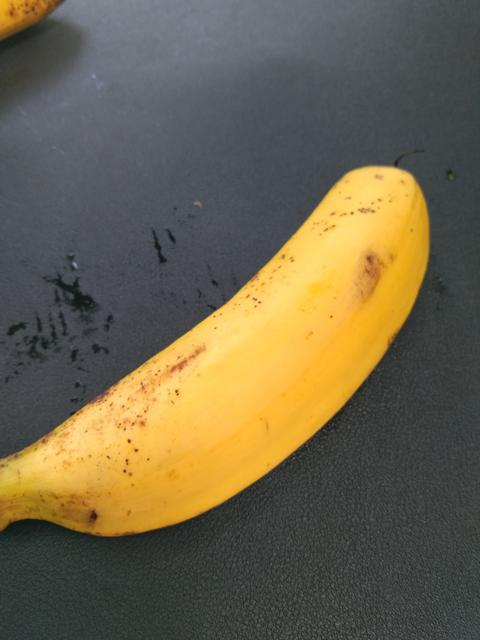ripe: (0, 163, 439, 545)
